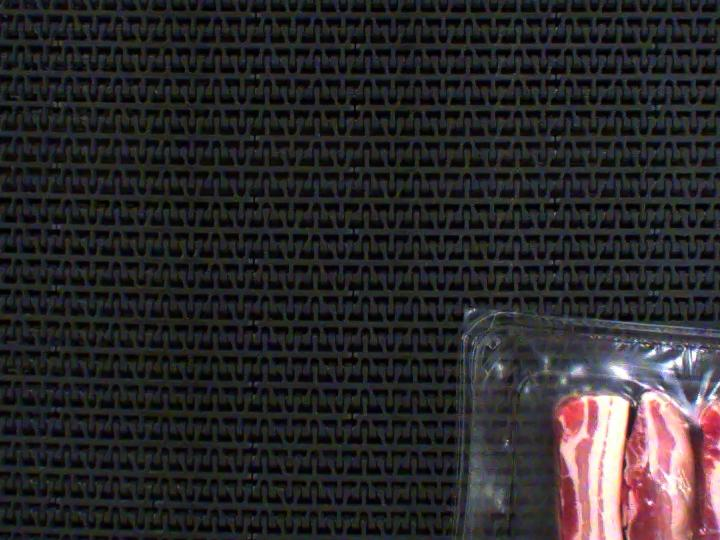unsealed: (473, 320, 720, 524)
